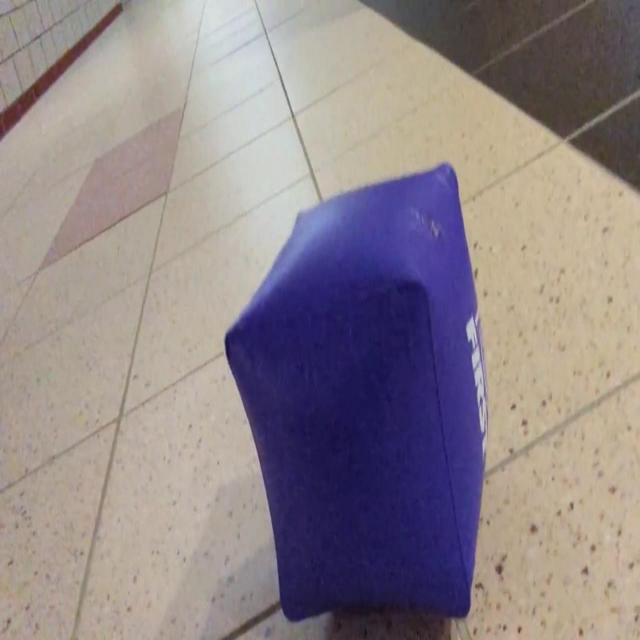frc_cube: (222, 161, 490, 623)
